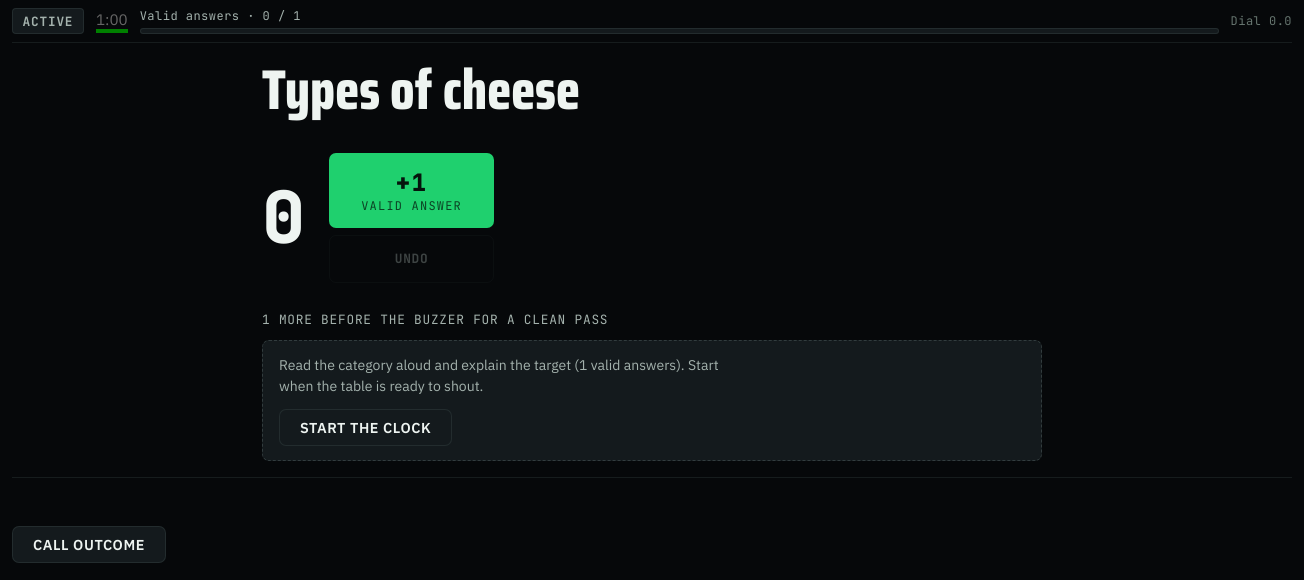
Test case: CategoriesComponent — hint text › shows target reached text after meeting the target
What coordinates should you click on to do the following:
click the button with test id "tally-increment"
I would click on:
 (412, 190)
Its box is [329, 153, 494, 228].
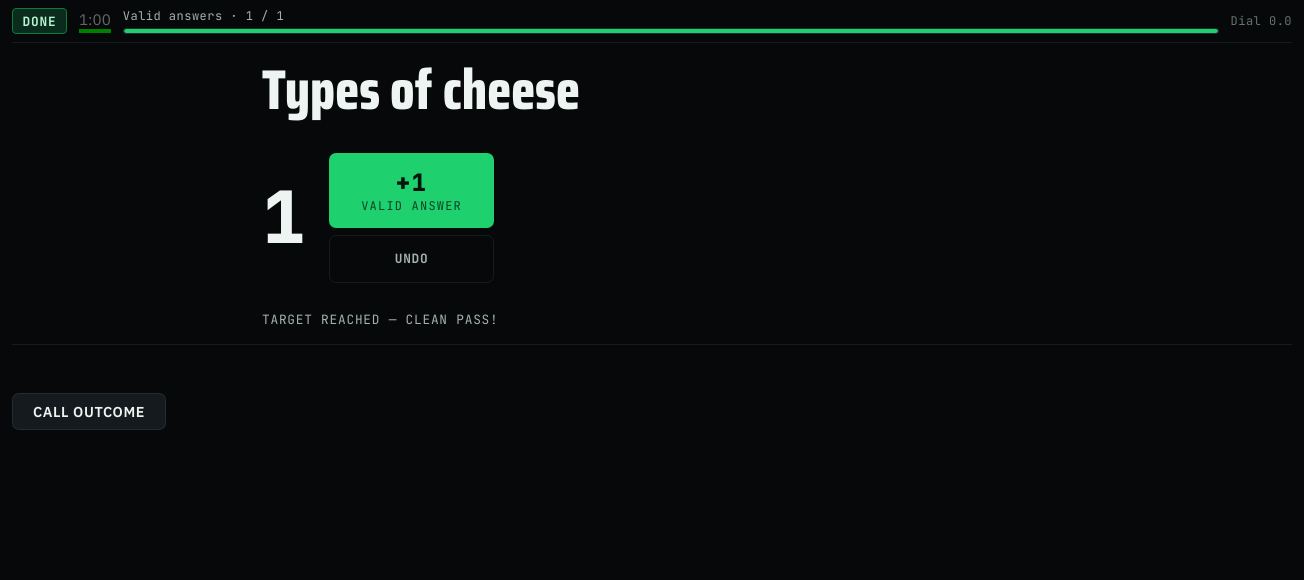
expect the text with test id "categories-hint" shows "Target reached": met, box [262, 310, 498, 328]
